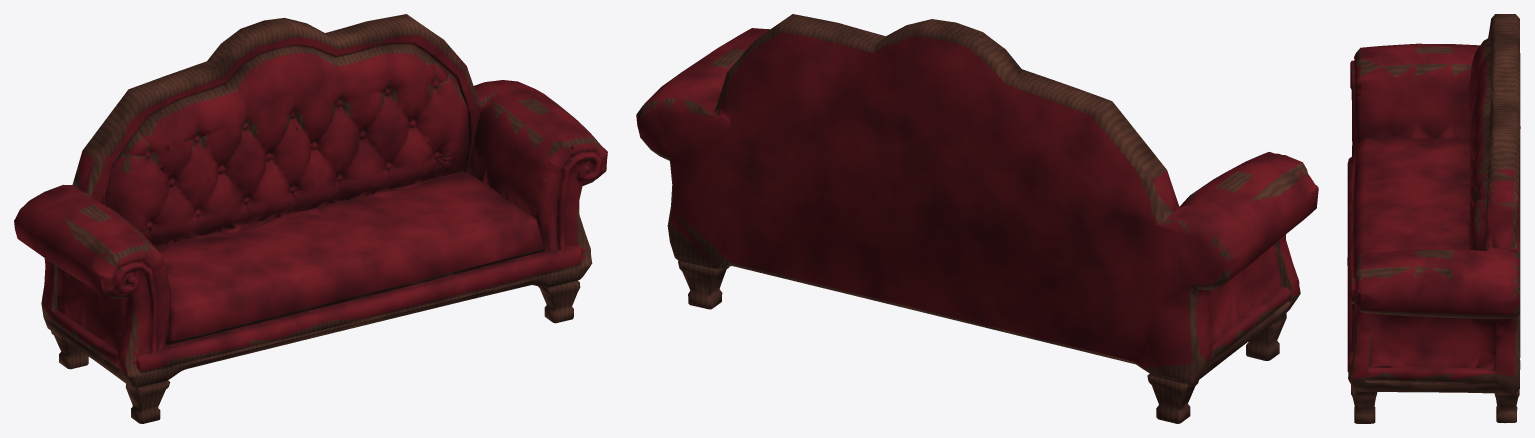
Rendered from Sofa.glb.
3 views of the same model, side by side, from view 1: azimuth 30°, elevation 25°; view 2: azimuth 150°, elevation 25°; view 3: azimuth 270°, elevation 25° (orthographic). The views are drawn at different scales.
Parts seen in each view (by area): view 1: Sofa; view 2: Sofa; view 3: Sofa.
Part boxes in pixels (x1=…): Sofa: x1=14, y1=14, x2=607, y2=423; Sofa: x1=636, y1=14, x2=1318, y2=423; Sofa: x1=1347, y1=14, x2=1520, y2=423.
Bounding box in the file's own units: 2.1 × 1.13 × 0.6386.
Materials: 1 (1 with a texture image).
